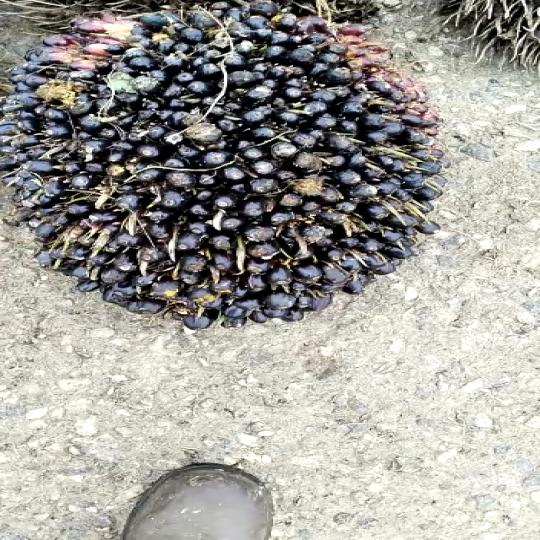mentah: (0, 0, 460, 351)
